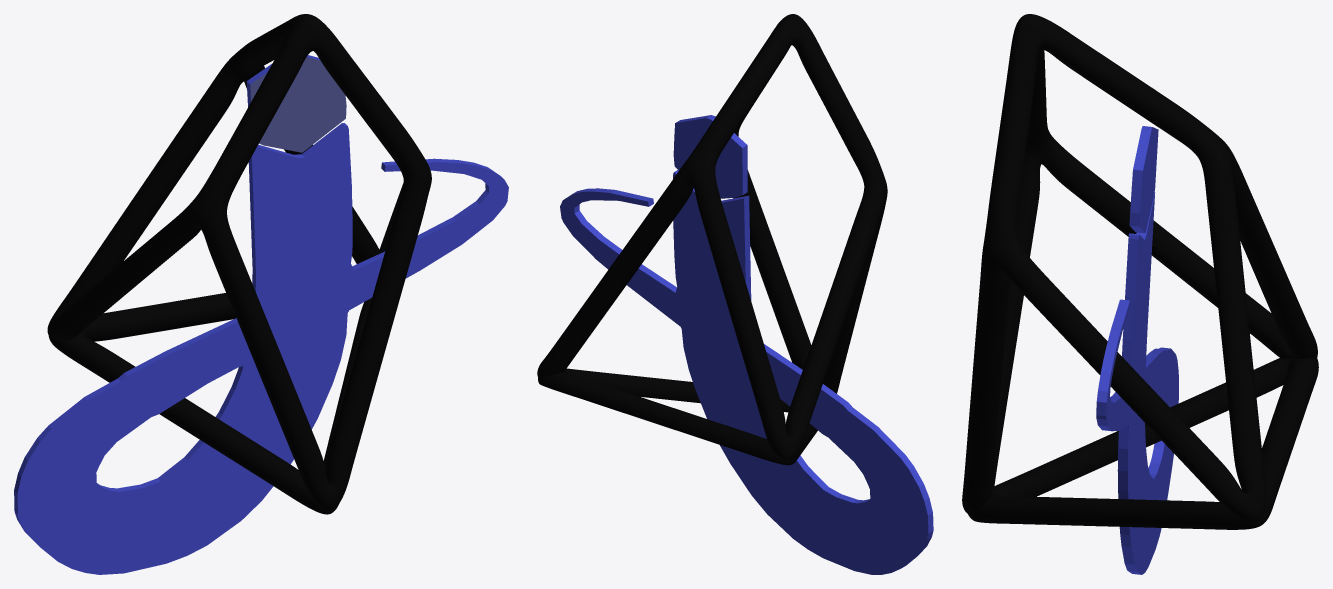
Rendered from EOS_INF_basic.glb.
The picture shows the model from 3 angles, left to right: view 1: azimuth 30°, elevation 25°; view 2: azimuth 150°, elevation 25°; view 3: azimuth 270°, elevation 25°; orthographic projection. The views are drawn at different scales.
Size of the model in its own units: 0.1357 by 0.1598 by 0.0858.
